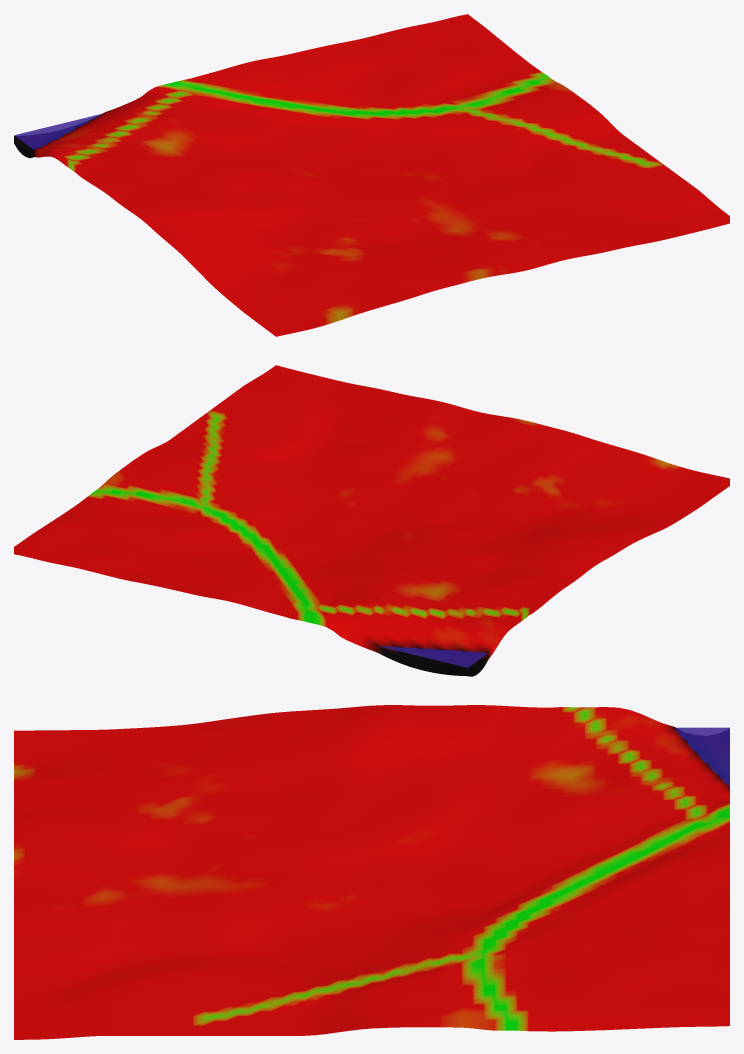
Rendered from chunk_4_6.glb.
3 renders of one model, top to bottom at view 1: azimuth 30°, elevation 25°; view 2: azimuth 150°, elevation 25°; view 3: azimuth 270°, elevation 25°, orthographic. The views are drawn at different scales.
Parts seen in each view (by area): view 1: LOD0, Water; view 2: LOD0, Water; view 3: LOD0, Water.
Boxes of the visible parts, x1,y1,x2,y2 form: LOD0: (14,14,729,336); Water: (14,114,101,149); LOD0: (14,365,729,676); Water: (381,646,487,667); LOD0: (14,705,729,1039); Water: (676,727,729,785).
Size of what is drawn, in the model's own units: 256 by 16.57 by 256.
